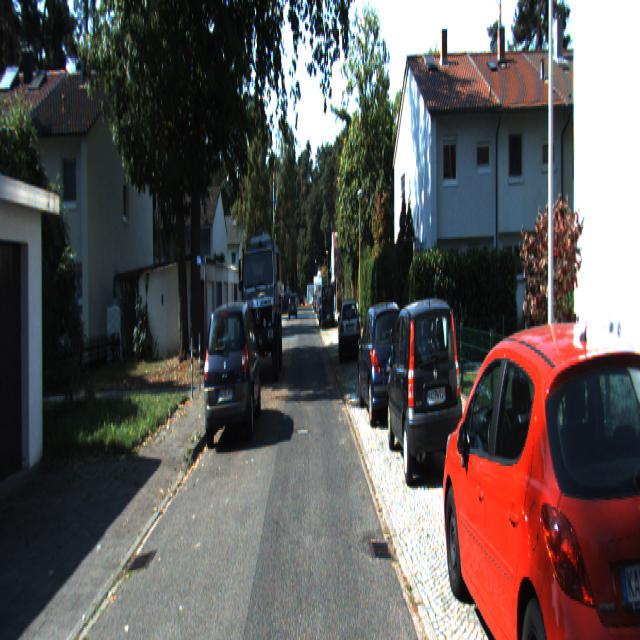Car: (440, 311, 640, 638), (384, 300, 464, 490), (203, 304, 263, 459), (358, 301, 410, 434), (241, 234, 282, 377), (338, 296, 362, 363), (322, 284, 336, 329)
